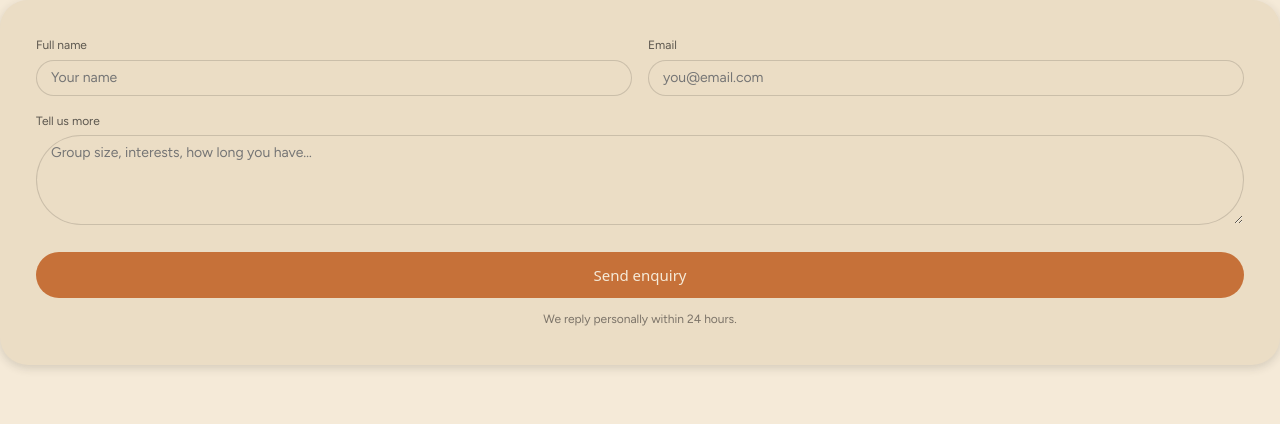
Test: GIVEN the API refuses the enquiry › WHEN the token is rejected THEN asks to retry and fetches a fresh token
Type "Ada Lovelace" into the field labelled "Full name" at {"x": 334, "y": 78}, box [36,60,632,96]
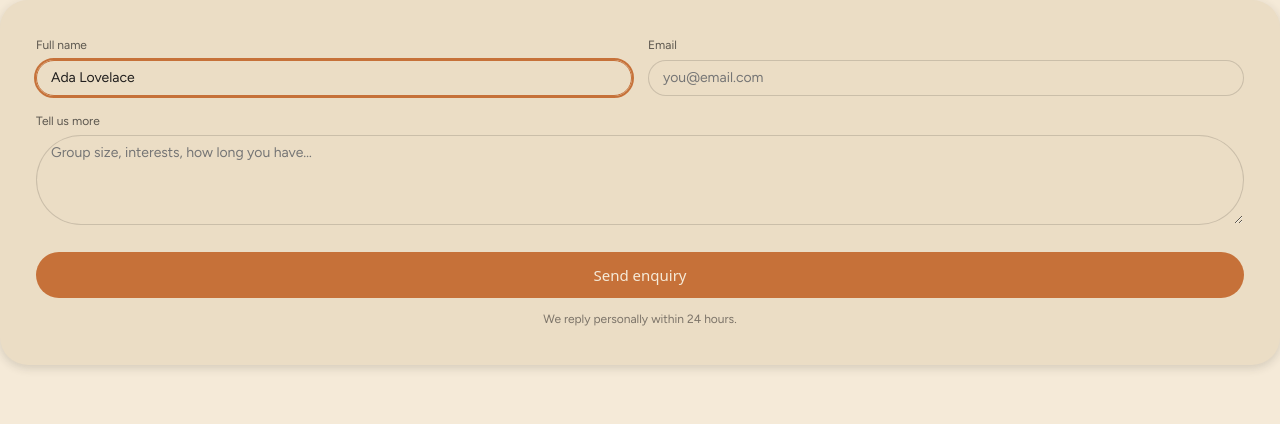
Type "ada@example.com" into the field labelled "Email" at {"x": 946, "y": 78}, box [648,60,1244,96]
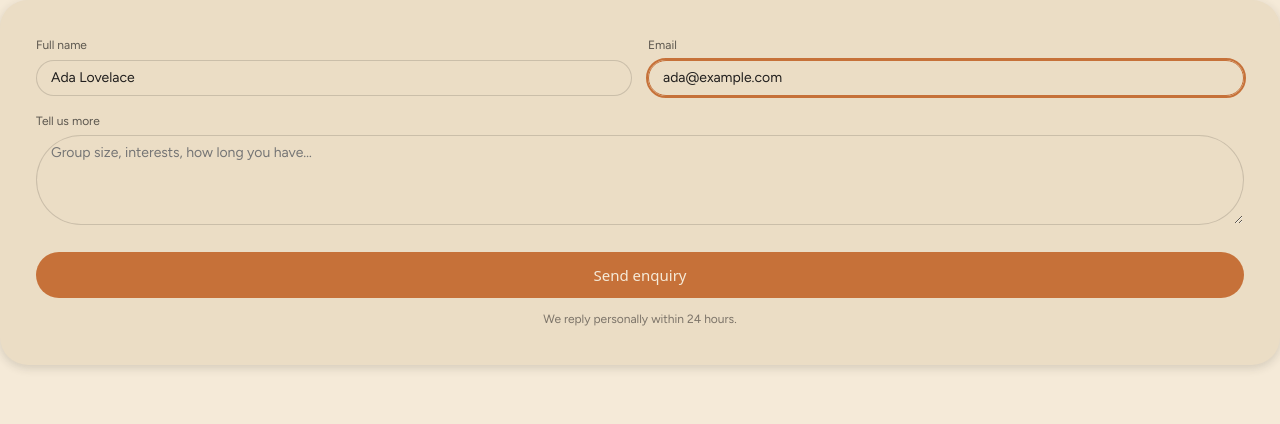
Click the button "Send enquiry" at {"x": 640, "y": 275}, box [36,252,1244,298]
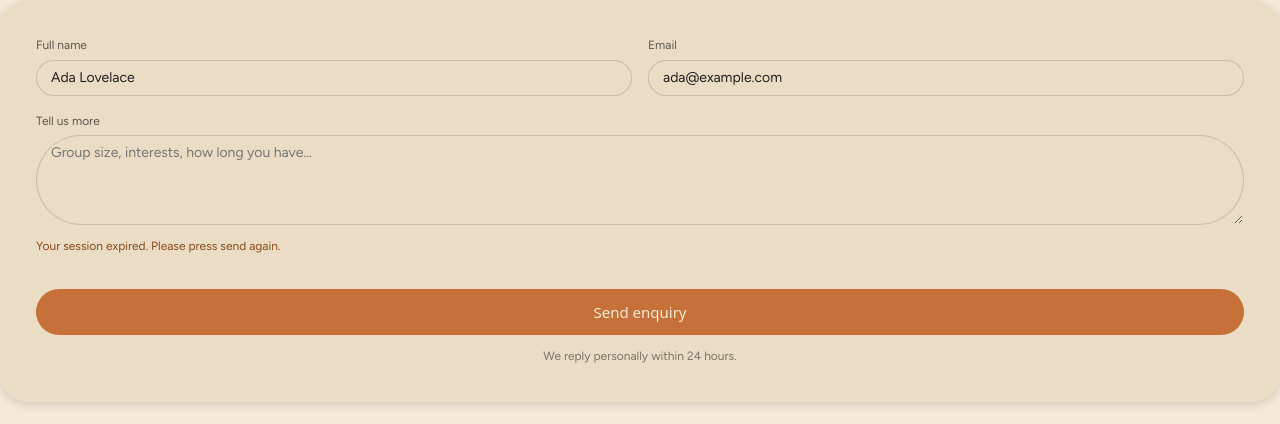
Result: the message shows "session expired" at [36,239,280,253]
